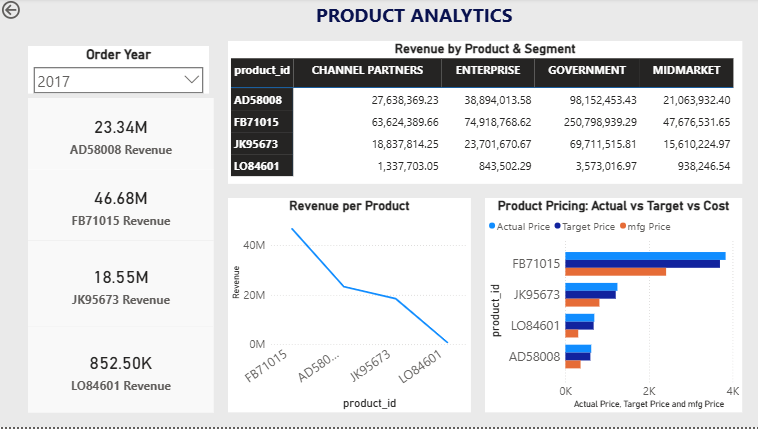

What the dashboard file says about the page in this screenshot:
{"tool":"powerbi","page":{"name":"Product Analytics","canvas":[1280,720],"ordinal":2},"visuals":[{"type":"slicer","title":"Order Year","fields":{"Values":["presentation vw_product_monthly_trend.order_year"]},"box":[48,48,312,96],"z":0},{"type":"actionButton","box":[0,0,100,40],"z":5},{"type":"pivotTable","title":"Revenue by Product & Segment","fields":{"Rows":["presentation vw_product_segment_matrix.product_id"],"Columns":["presentation vw_product_segment_matrix.segment"],"Values":["Sum(presentation vw_product_segment_matrix.revenue)"]},"box":[384,72,864,240],"z":7},{"type":"clusteredBarChart","title":"Product Pricing: Actual vs Target vs Cost","fields":{"Category":["presentation vw_product_pricing.product_id"],"Y":["Sum(presentation vw_product_pricing.avg_actual_unit_price)","Sum(presentation vw_product_pricing.avg_target_price)","Sum(presentation vw_product_pricing.avg_mfg_price)"]},"box":[816,336,432,360],"z":8},{"type":"card","fields":{"Values":["Measures_table.AD58008 Revenue"]},"box":[48,168,312,120],"z":10},{"type":"card","fields":{"Values":["Measures_table.FB71015 Revenue"]},"box":[48,288,312,120],"z":11},{"type":"card","fields":{"Values":["Measures_table.JK95673 Revenue"]},"box":[48,408,312,144],"z":12},{"type":"card","fields":{"Values":["Measures_table.LO84601 Revenue"]},"box":[48,552,312,144],"z":13},{"type":"lineChart","title":"Revenue per Product","fields":{"Category":["presentation vw_product_monthly_trend.product_id"],"Y":["Sum(presentation vw_product_monthly_trend.revenue)"]},"box":[384,336,408,360],"z":14},{"type":"textbox","box":[528,0,360,96],"z":15}]}

Visuals, with their boxes in screenshot pixels (x1, y1, x2, y2), scaled from the page's 1280x720 canvas onto the 758x429 screenshot:
"Order Year" slicer: {"left": 28, "top": 29, "right": 213, "bottom": 86}
actionButton: {"left": 0, "top": 0, "right": 59, "bottom": 24}
"Revenue by Product & Segment" pivotTable: {"left": 227, "top": 43, "right": 739, "bottom": 186}
"Product Pricing: Actual vs Target vs Cost" clusteredBarChart: {"left": 483, "top": 200, "right": 739, "bottom": 415}
card - Measures_table.AD58008 Revenue: {"left": 28, "top": 100, "right": 213, "bottom": 172}
card - Measures_table.FB71015 Revenue: {"left": 28, "top": 172, "right": 213, "bottom": 243}
card - Measures_table.JK95673 Revenue: {"left": 28, "top": 243, "right": 213, "bottom": 329}
card - Measures_table.LO84601 Revenue: {"left": 28, "top": 329, "right": 213, "bottom": 415}
"Revenue per Product" lineChart: {"left": 227, "top": 200, "right": 469, "bottom": 415}
textbox: {"left": 313, "top": 0, "right": 526, "bottom": 57}
